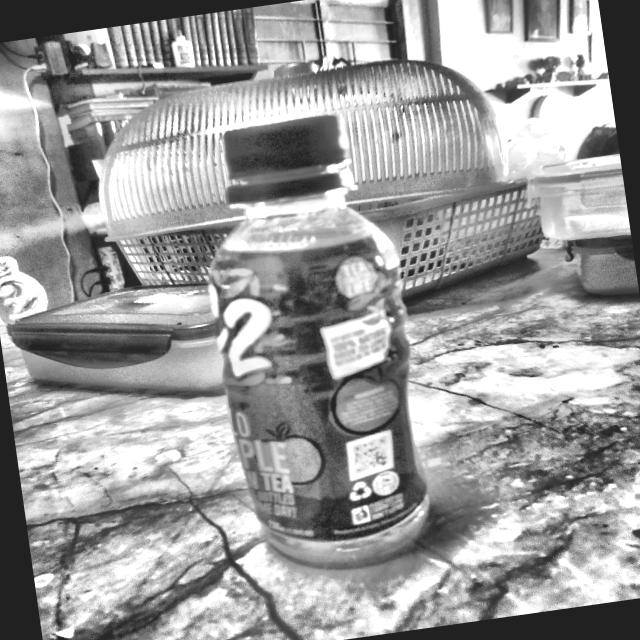Plastic-Bottle: (178, 101, 448, 583)
